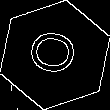O_E: (25, 29, 85, 81)
